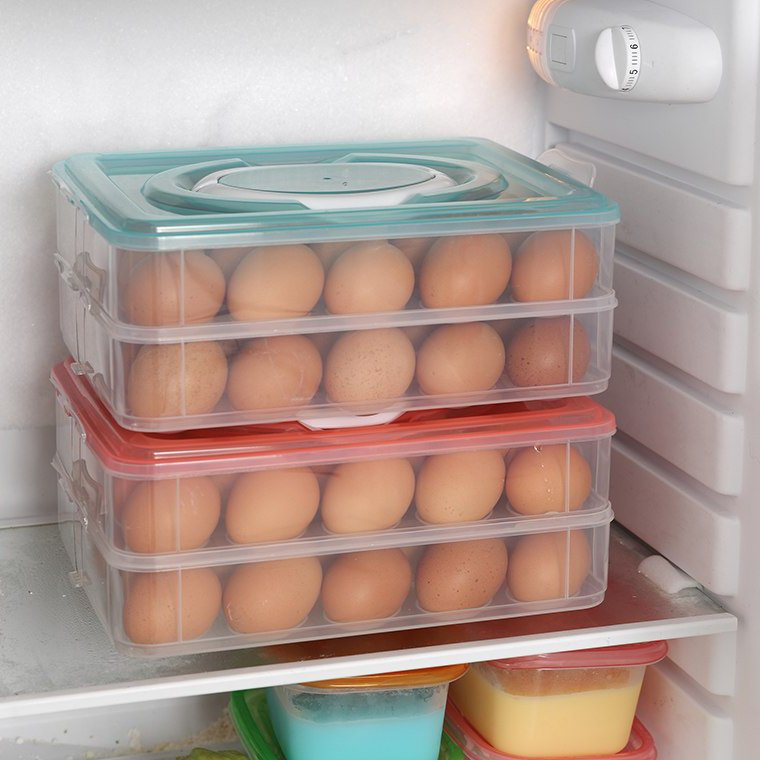egg: (71, 222, 608, 329), (103, 447, 604, 557), (120, 525, 592, 641), (96, 316, 591, 412)
